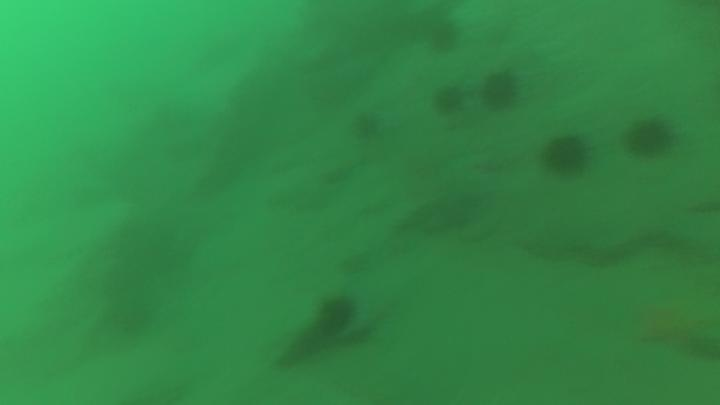echinus: (619, 117, 681, 166), (540, 129, 596, 181), (312, 289, 361, 337), (481, 70, 526, 114), (432, 80, 466, 120), (426, 16, 460, 56)
